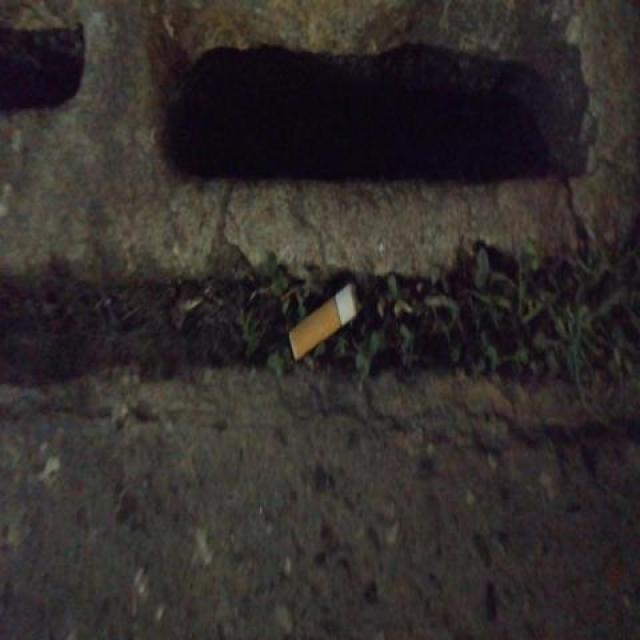non-organic waste: (284, 274, 368, 366)
